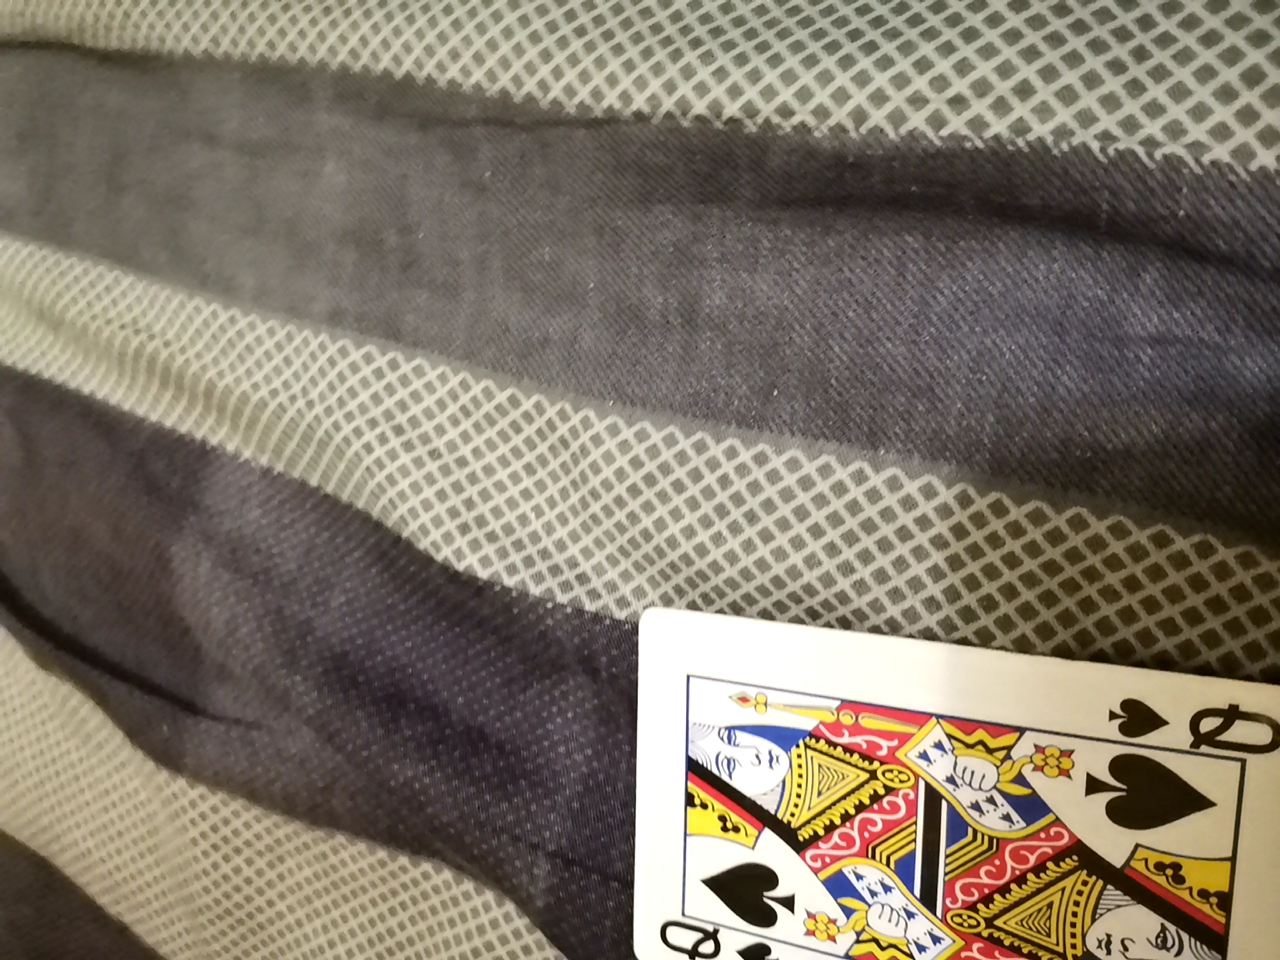ht q: (605, 626, 1262, 955)
